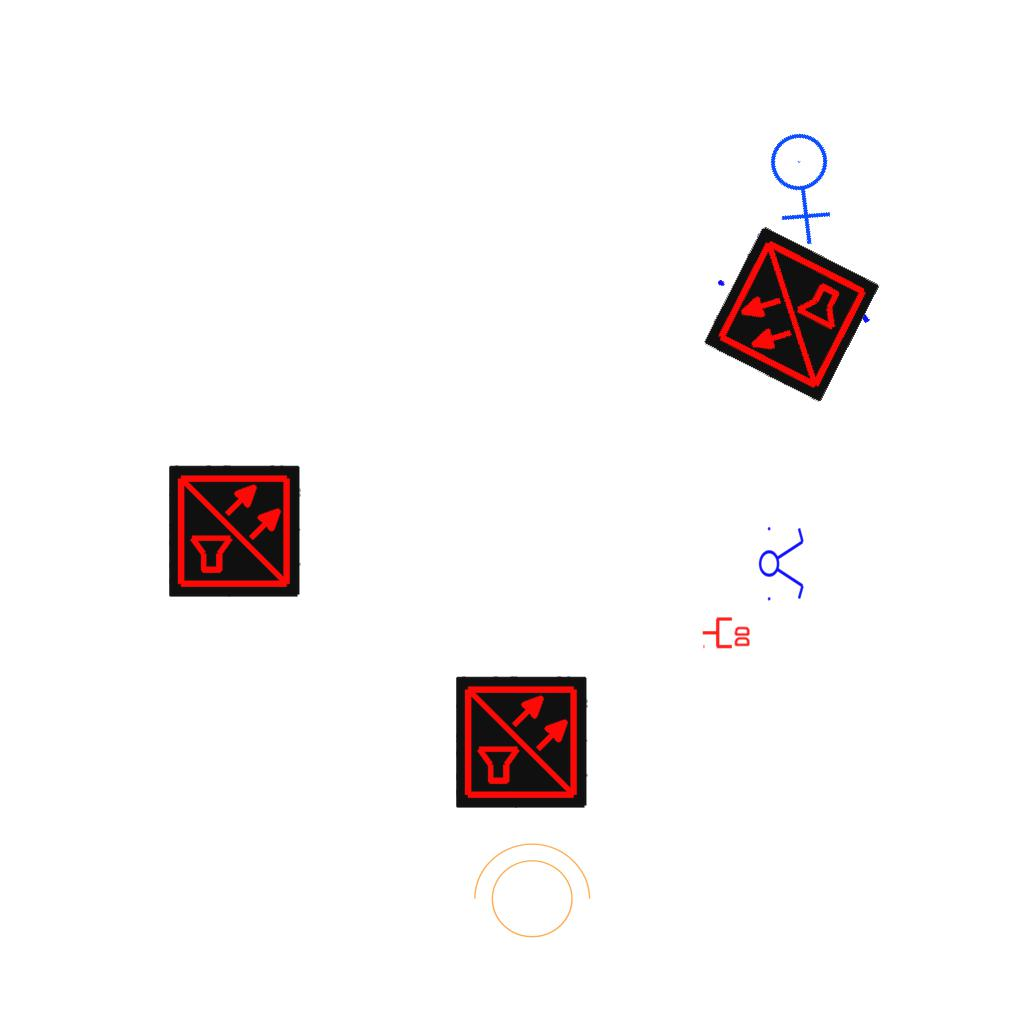Datenanschluss_zweifach: (701, 615, 752, 649)
Elektroanschluss_allgemein_230V_Geraeteanschlussdose_230V: (738, 114, 873, 250)
OKW_Multisensormelder_(Kombination_optischer_Rauch-Kahlenmonoxid_Waerme-Melder): (702, 225, 880, 403), (456, 676, 588, 808), (169, 465, 301, 597)
Scheinwerfer_fuer_Alarmbeleuchtung: (463, 838, 595, 950)
Serienschalter: (695, 215, 887, 395), (758, 521, 806, 605)
